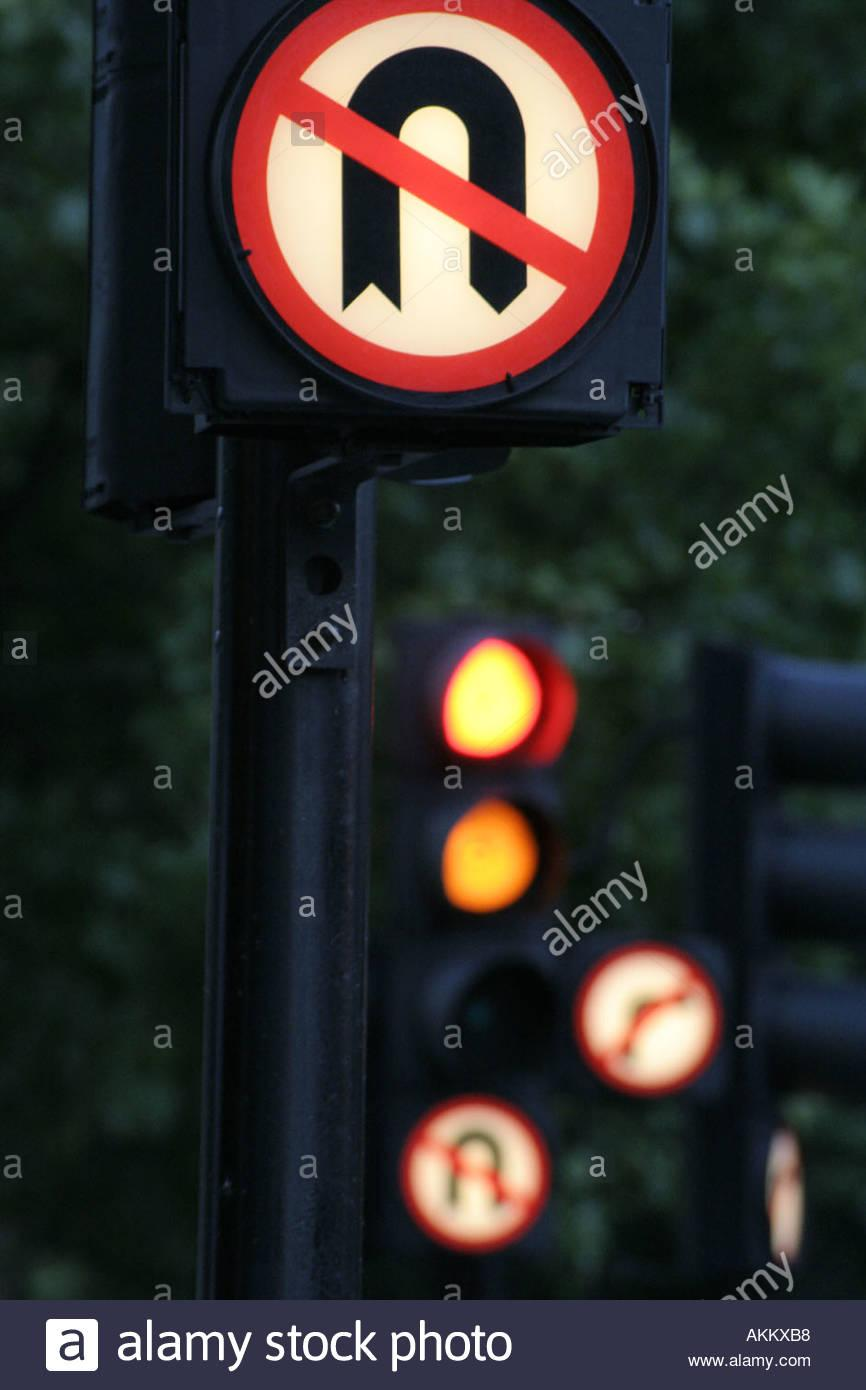no_u_turn: (231, 0, 633, 389)
